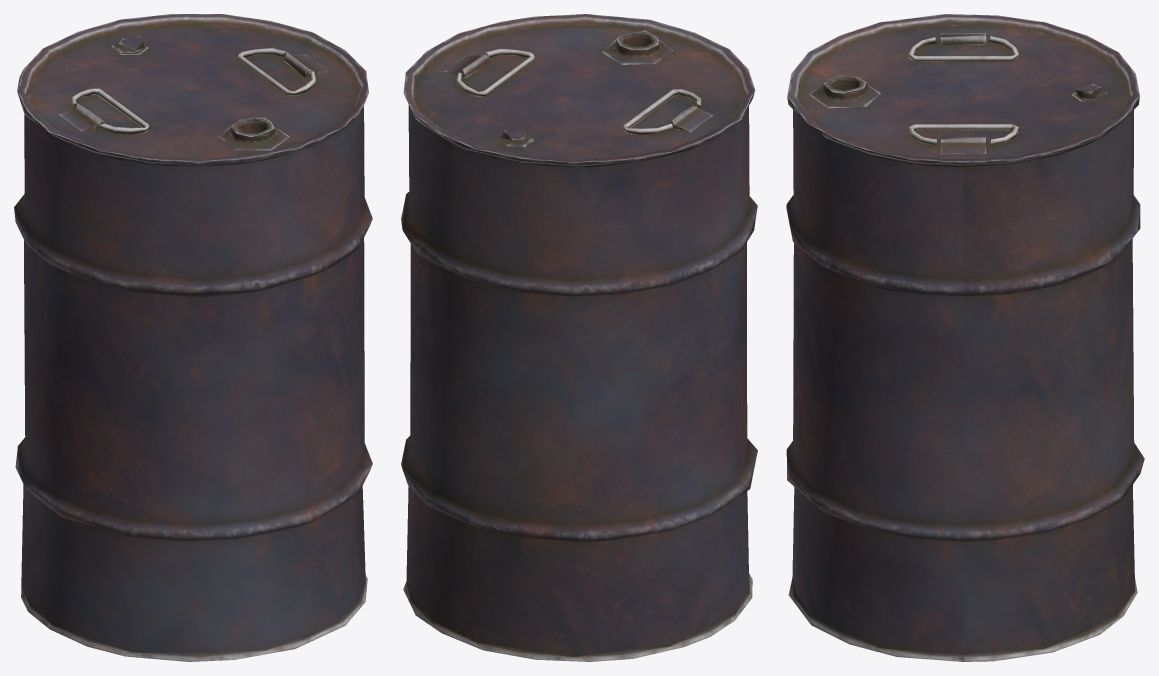
The model's file is SM_steel_barrel_02.fbx.
The picture shows the model from 3 angles, left to right: view 1: azimuth 30°, elevation 25°; view 2: azimuth 150°, elevation 25°; view 3: azimuth 270°, elevation 25°; orthographic projection.
Parts seen in each view (by area): view 1: SM_steel_barrel_02_LOD0; view 2: SM_steel_barrel_02_LOD0; view 3: SM_steel_barrel_02_LOD0.
Boxes of the visible parts, x1,y1,x2,y2 form: SM_steel_barrel_02_LOD0: (14, 14, 372, 661); SM_steel_barrel_02_LOD0: (401, 14, 757, 661); SM_steel_barrel_02_LOD0: (786, 14, 1144, 661).
Size of the model in its own units: 74.28 by 75.3 by 117.
